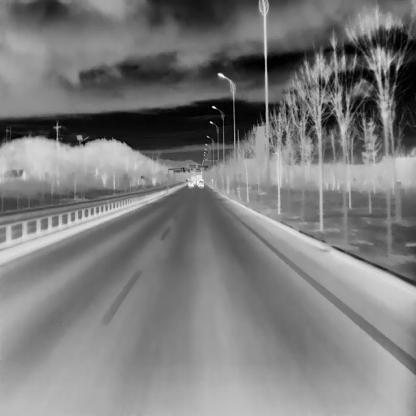car: (198, 180, 204, 186), (188, 180, 193, 186)
truck: (196, 174, 202, 184), (191, 174, 196, 184)
